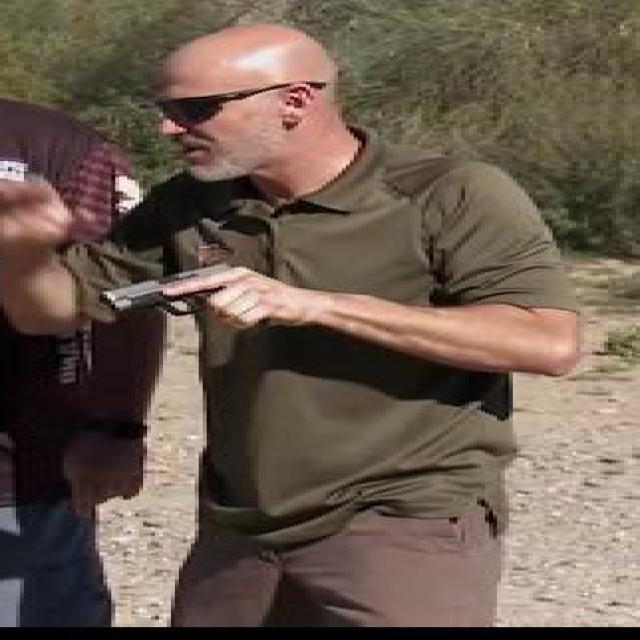Gun: (108, 260, 278, 330)
